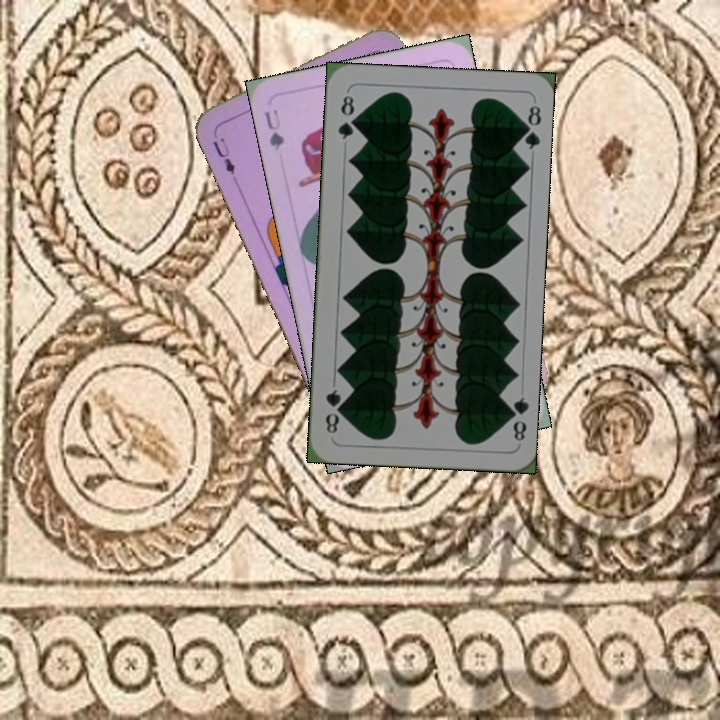EU: (208, 134, 238, 178)
G8: (502, 393, 530, 443), (333, 88, 358, 142)
GU: (260, 105, 287, 153)
